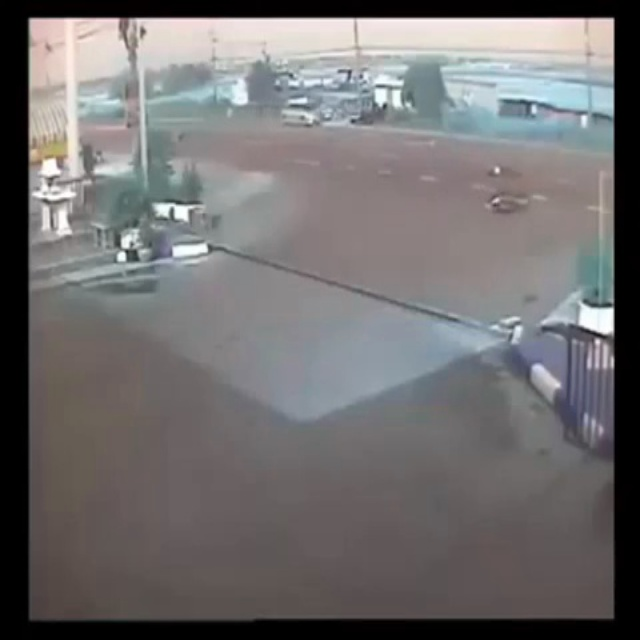acc: (462, 156, 536, 223)
